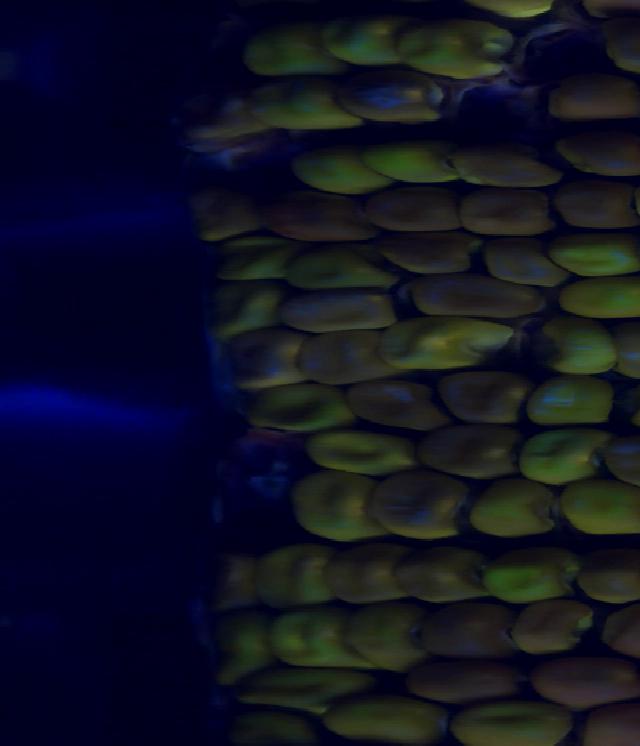fluorescent: (393, 17, 512, 73), (464, 479, 553, 553), (524, 376, 616, 437), (277, 150, 384, 202), (387, 317, 500, 365), (334, 691, 434, 745), (254, 85, 364, 134), (438, 700, 582, 737), (245, 387, 355, 434), (306, 471, 376, 542), (550, 482, 640, 537), (251, 673, 364, 716), (268, 610, 347, 671), (257, 546, 331, 611), (305, 433, 409, 478), (210, 616, 276, 675), (522, 430, 597, 481), (539, 321, 618, 368), (324, 10, 393, 63), (483, 555, 560, 602), (284, 249, 373, 288), (232, 704, 315, 745), (561, 284, 640, 324), (248, 34, 326, 73), (212, 281, 270, 331), (373, 145, 445, 185), (218, 245, 289, 284), (560, 245, 640, 276)
nonfluorescent: (344, 69, 457, 126), (409, 276, 547, 318), (516, 653, 639, 700), (264, 182, 361, 239), (383, 471, 470, 534), (305, 329, 396, 388), (458, 188, 553, 243), (431, 376, 531, 426), (422, 427, 529, 473), (350, 375, 441, 429), (364, 185, 463, 233), (418, 607, 512, 655), (550, 133, 640, 181), (555, 181, 635, 233), (276, 294, 402, 327), (225, 333, 302, 387), (568, 559, 640, 616), (453, 149, 550, 191), (406, 547, 482, 598), (410, 665, 515, 701), (486, 239, 555, 292), (337, 553, 406, 604), (551, 82, 640, 121), (195, 97, 270, 143), (515, 601, 590, 647), (382, 236, 467, 275), (579, 698, 640, 746), (202, 555, 248, 605), (606, 30, 640, 69), (609, 613, 640, 655)
